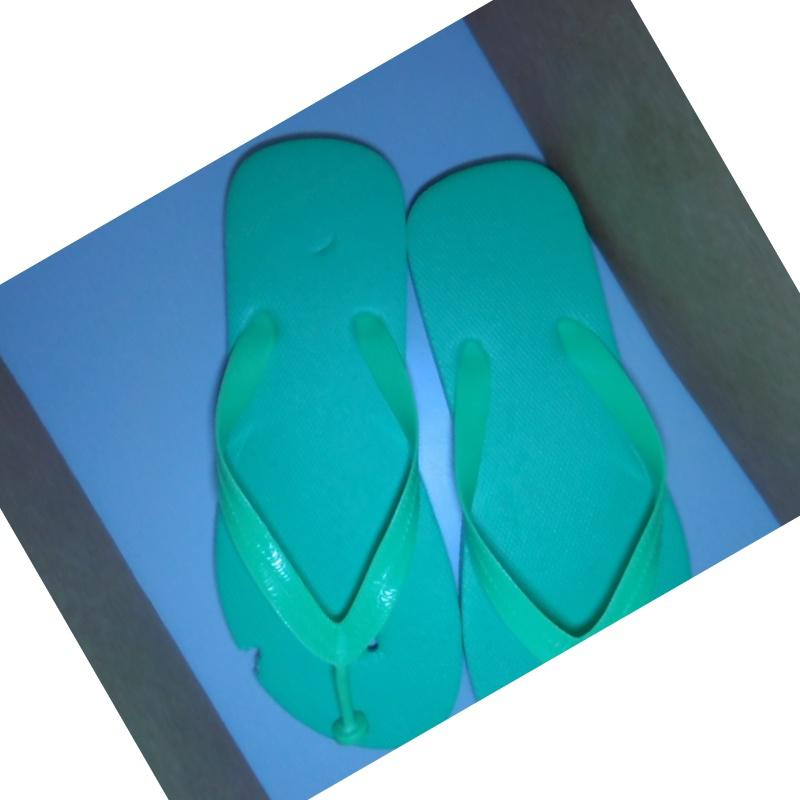chipped: (229, 621, 277, 699)
detached: (320, 684, 381, 753)
